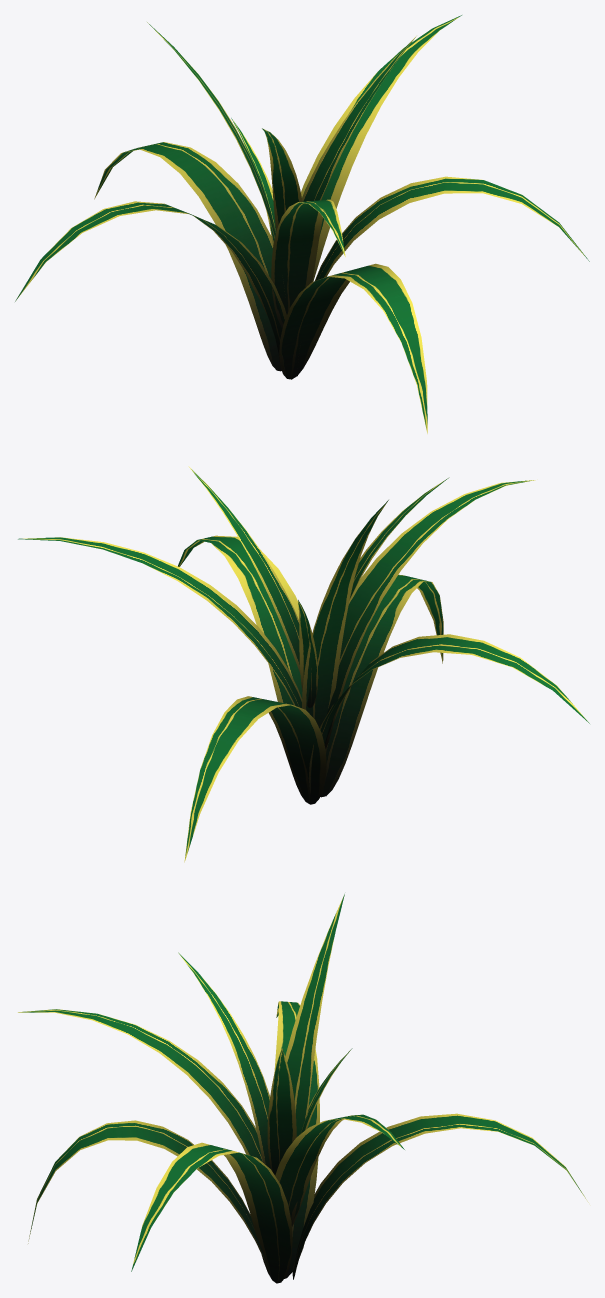
The model's file is aloe.glb.glb.
The picture shows the model from 3 angles, top to bottom: view 1: azimuth 30°, elevation 25°; view 2: azimuth 150°, elevation 25°; view 3: azimuth 270°, elevation 25°; orthographic projection. The views are drawn at different scales.
Parts seen in each view (by area): view 1: Cube; view 2: Cube; view 3: Cube.
Boxes of the visible parts, x1,y1,x2,y2 form: Cube: [15, 15, 589, 433]; Cube: [18, 466, 589, 862]; Cube: [18, 894, 588, 1283].
Size of the model in its own units: 2.47 by 1.63 by 2.52.
Materials: 1 (1 with a texture image).
